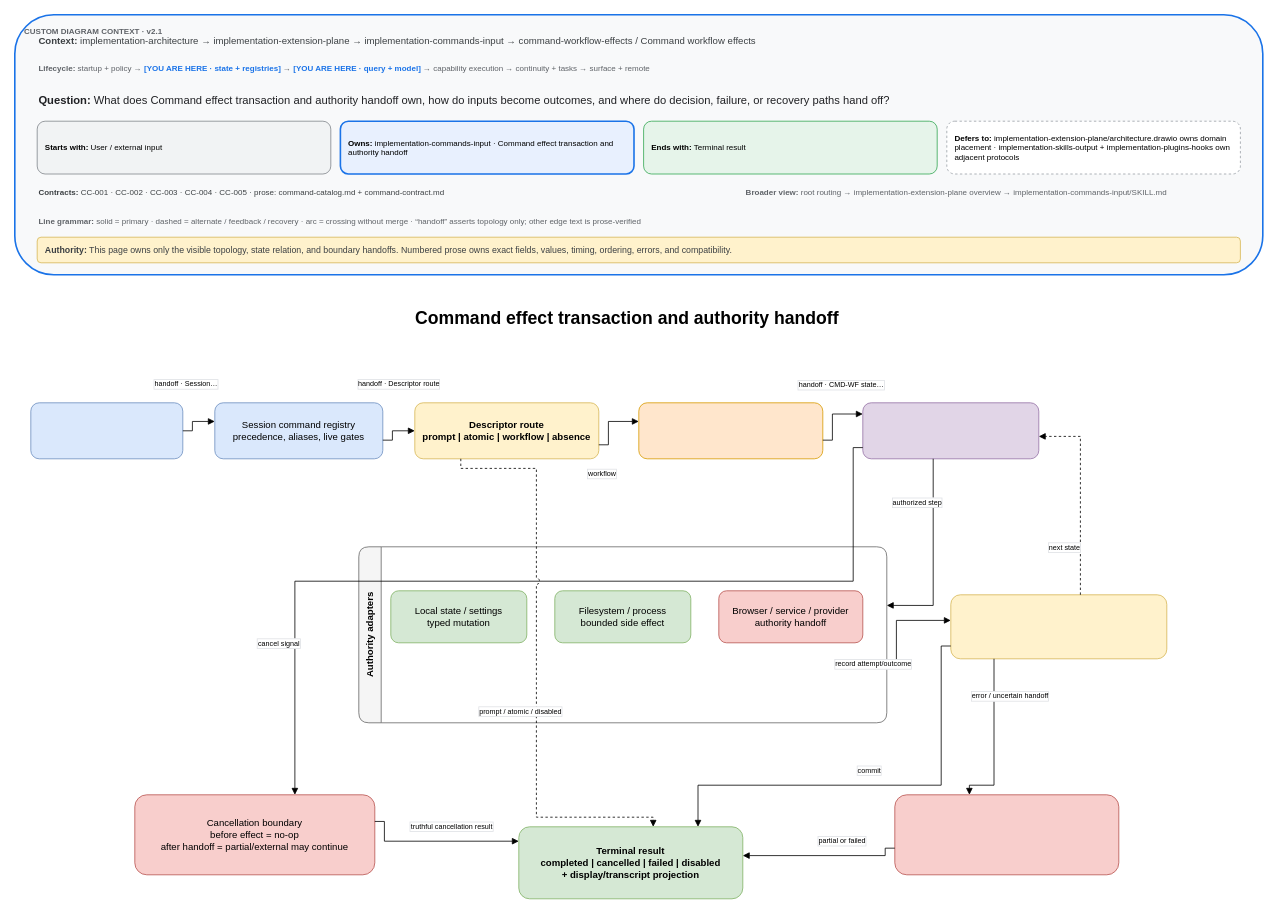
The diagram is 1277 pixels wide and 913 high, and some of its shapes have lost their labels. Here are the shapes that lost their labels. From the top down, the centre of each, then its label:
At (106,430): "User / external input raw arguments + surface".
At (730,430): "Validate + snapshot inputs, policy, pre-state, authority".
At (950,430): "CMD-WF state machine one primary owner".
At (1058,626): "Effect journal ordered attempts + commit points + partials".
At (1006,834): "Failure / recovery compensate only documented effects never invent rollback".
